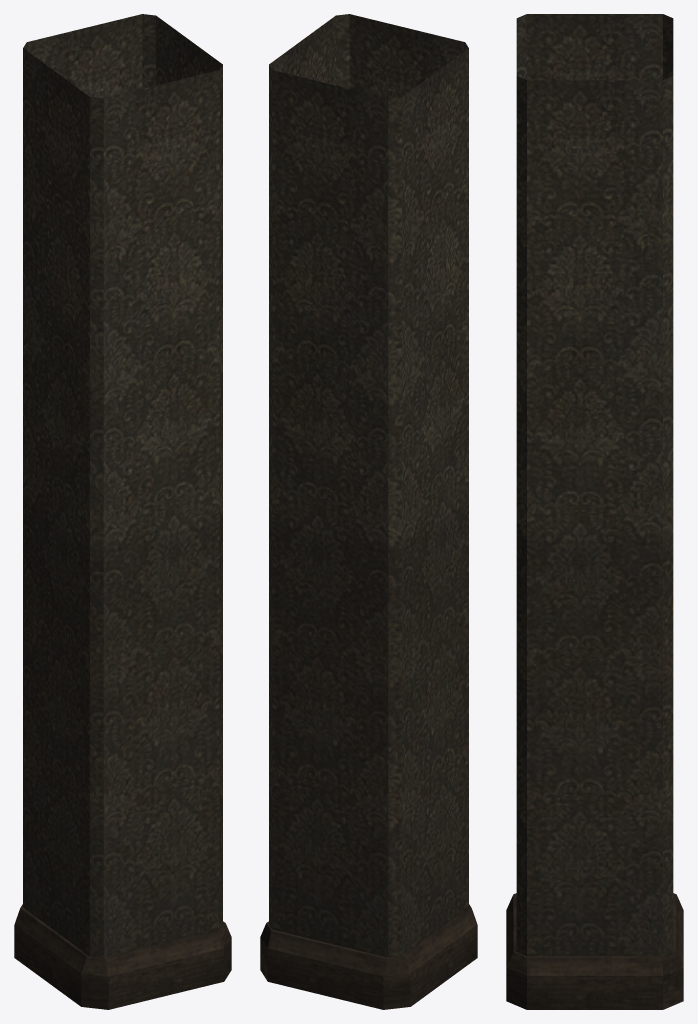
File: pillar_2.fbx
The picture shows the model from 3 angles, left to right: view 1: azimuth 30°, elevation 25°; view 2: azimuth 150°, elevation 25°; view 3: azimuth 270°, elevation 25°; orthographic projection.
Visible parts, largest first — view 1: pillar_2; view 2: pillar_2; view 3: pillar_2.
Boxes of the visible parts, bbox=[...] form: pillar_2: bbox=[14, 14, 231, 1009]; pillar_2: bbox=[260, 14, 477, 1009]; pillar_2: bbox=[506, 14, 683, 1009].
Bounding box in the file's own units: 0.52 × 0.52 × 3.
